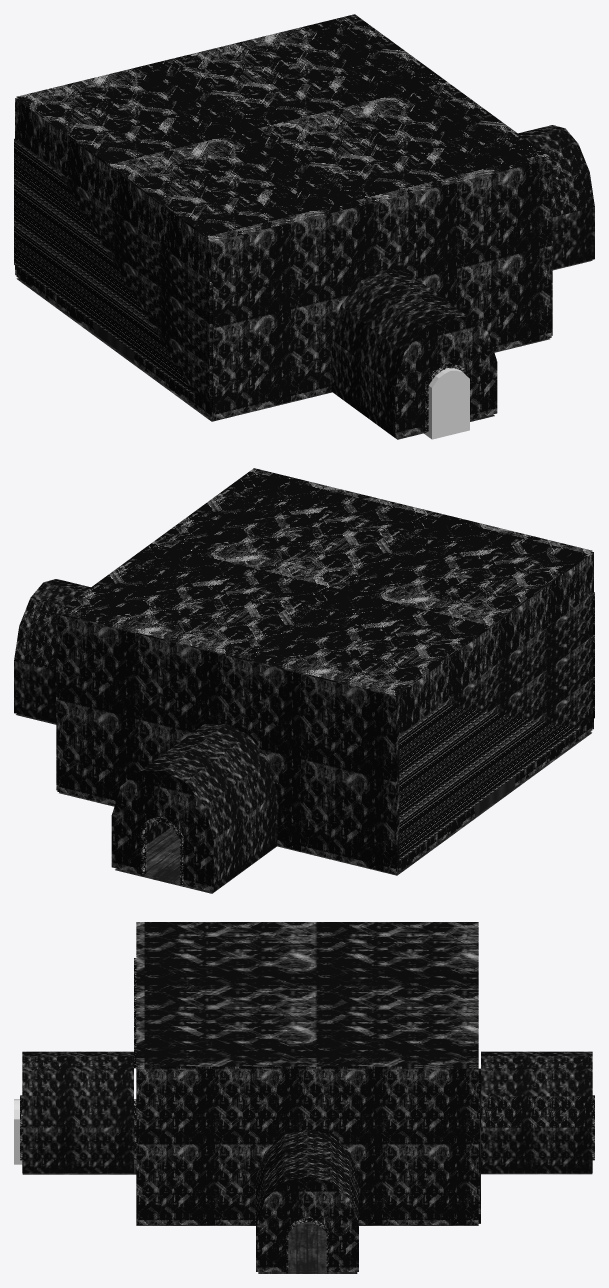
The model's file is Lobby.fbx.
The picture shows the model from 3 angles, top to bottom: view 1: azimuth 30°, elevation 25°; view 2: azimuth 150°, elevation 25°; view 3: azimuth 270°, elevation 25°; orthographic projection. The views are drawn at different scales.
Visible parts, largest first — view 1: Plane.001, Plane.005; view 2: Plane.001; view 3: Plane.001.
Boxes of the visible parts, x1,y1,x2,y2 form: Plane.001: [14, 14, 594, 439]; Plane.005: [424, 368, 469, 439]; Plane.001: [14, 468, 594, 893]; Plane.001: [20, 922, 594, 1273].
Bounding box in the file's own units: 2020 × 784 × 2546.
